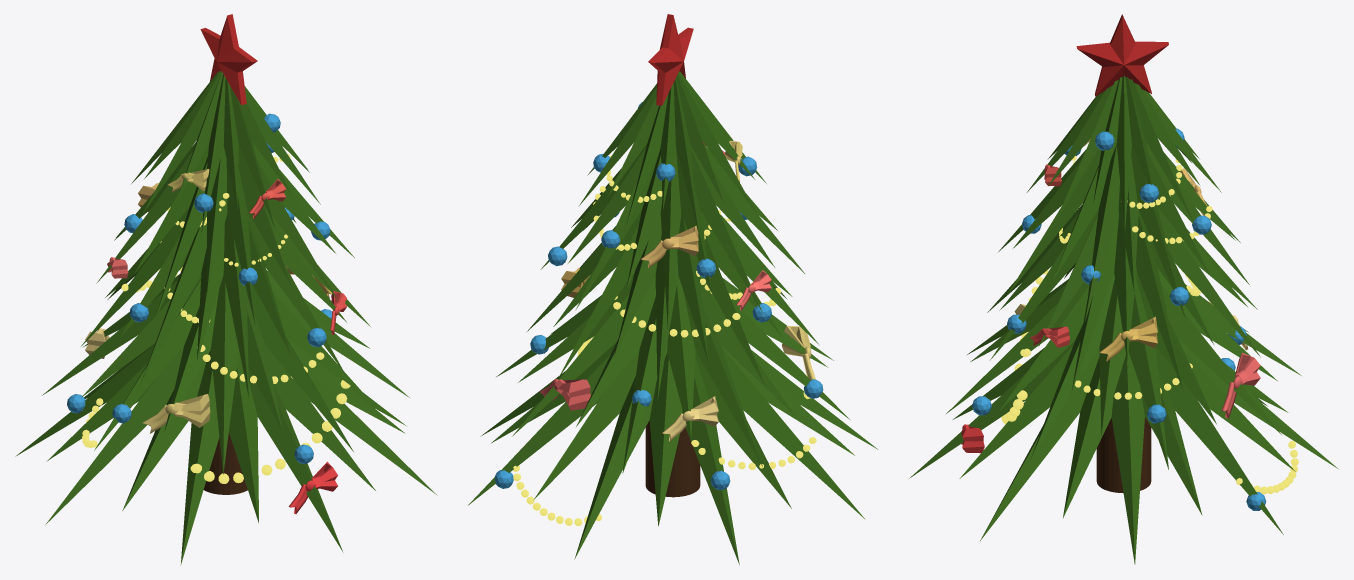
Rendered from my-elka.glb.
3 views of the same model, side by side, from view 1: azimuth 30°, elevation 25°; view 2: azimuth 150°, elevation 25°; view 3: azimuth 270°, elevation 25° (orthographic).
Parts seen in each view (by area): view 1: Елка, Игрушки, Герлянды, Звезда, Бант.004, Бант.009, Бант.002; view 2: Елка, Игрушки, Герлянды, Звезда, Бант.007, Бант.003, Бант.001, Бант.004, Бант; view 3: Елка, Игрушки, Звезда, Герлянды, Бант.006, Бант.003, Бант.009, Бант.005.
Part boxes in pixels (x1,y1,x2,y2): Елка: (15,71,437,565); Игрушки: (67,113,331,463); Герлянды: (82,154,350,483); Звезда: (200,14,257,105); Бант.004: (142,394,210,433); Бант.009: (288,461,337,513); Бант.002: (249,179,286,218); Елка: (468,71,878,564); Игрушки: (495,102,823,490); Герлянды: (513,155,816,525); Звезда: (648,14,693,105); Бант.007: (641,225,698,268); Бант.003: (539,379,590,410); Бант.001: (662,396,718,441); Бант.004: (782,326,815,379); Бант: (736,270,771,310); Елка: (909,76,1337,564); Игрушки: (972,128,1266,510); Звезда: (1076,14,1168,96); Герлянды: (1001,155,1298,494); Бант.006: (1099,316,1157,361); Бант.003: (1221,352,1260,418); Бант.009: (961,424,984,453); Бант.005: (1030,326,1069,347).
Size of the model in its own units: 14.28 by 17.07 by 14.28.
